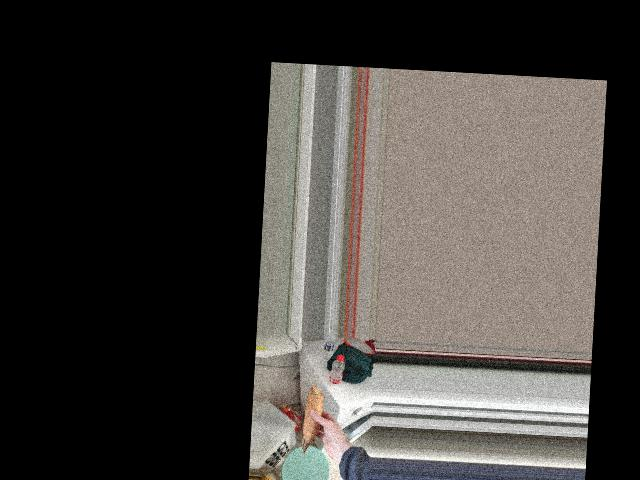sweet_potato: (304, 382, 326, 450)
